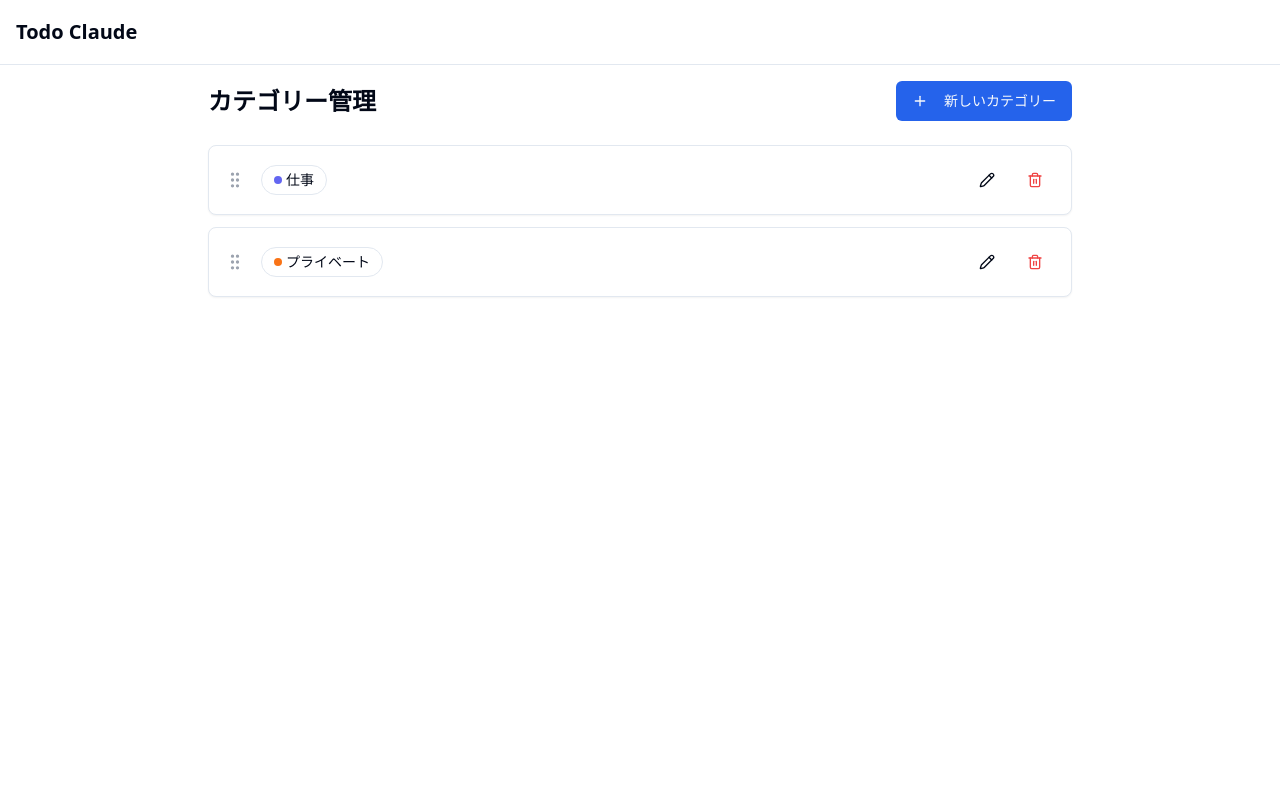
Test: CategoriesPage › should open create dialog when clicking new category button
Click the button "新しいカテゴリー" at (984, 101), box [896,81,1072,121]
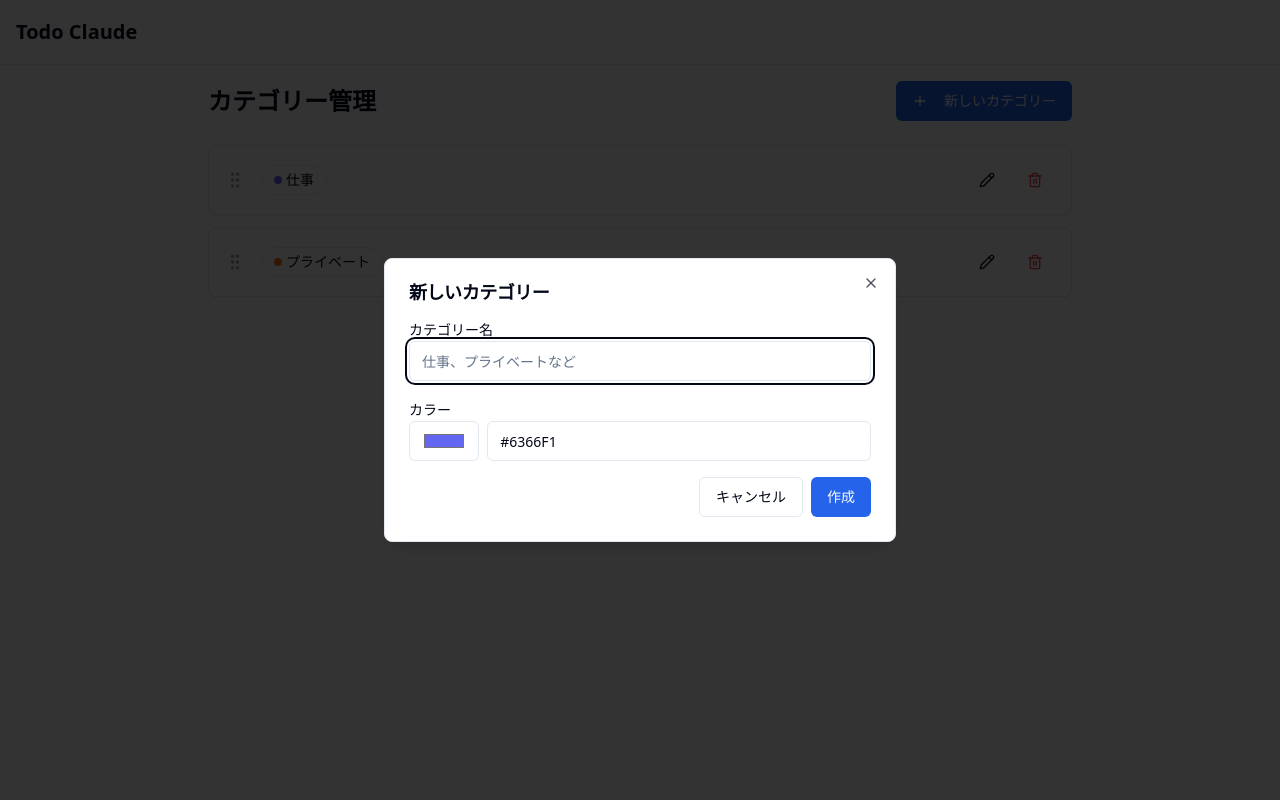
Now the dialog is shown, box [384,258,896,542]
Now the field labelled "カテゴリー名" is shown, box [409,341,871,381]
